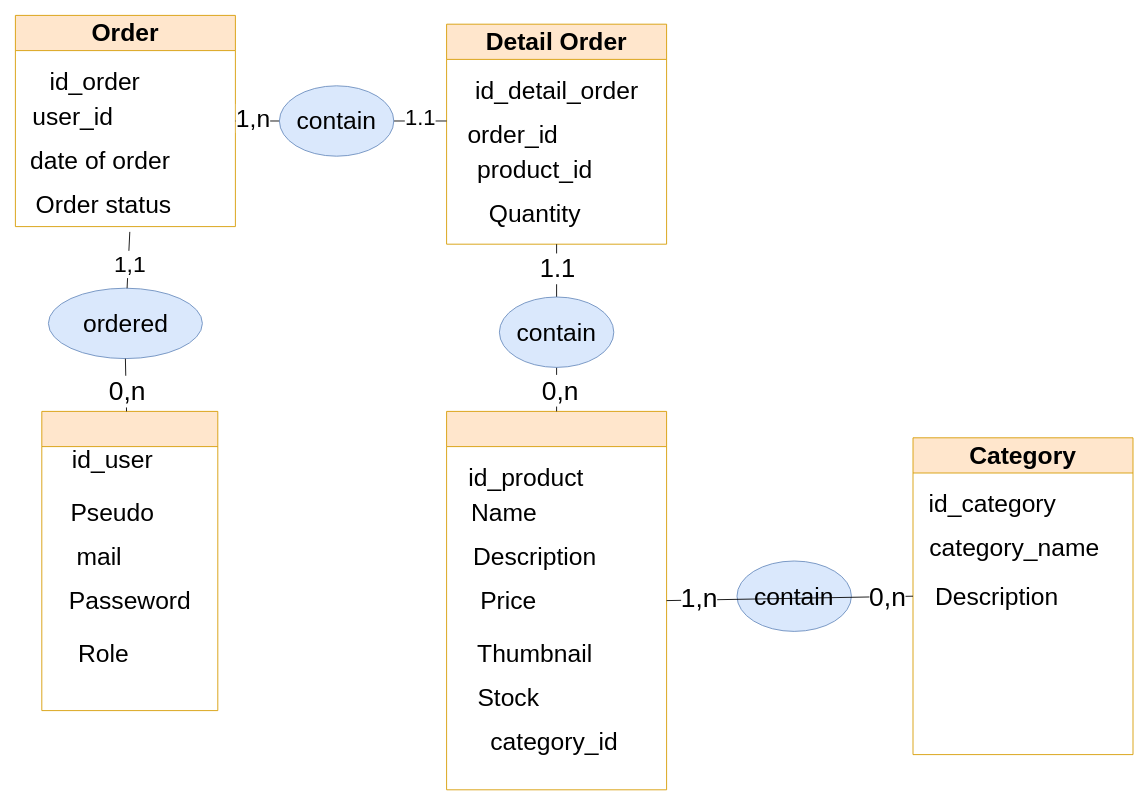
The diagram is 1148 pixels wide and 805 high, and some of its shapes have lost their labels. Here are the shapes that lost their labels. From the top down, the box of each, then its label:
(41, 411, 218, 711): Utilisateur
(446, 411, 667, 790): Produit
